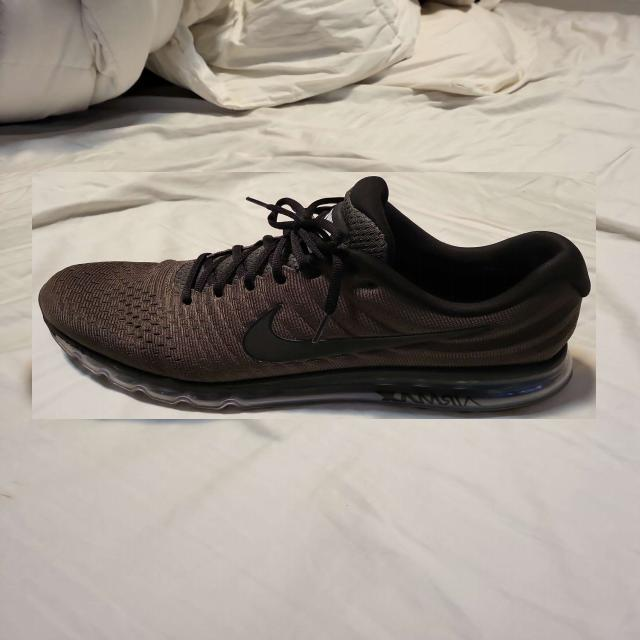shoe: (32, 172, 596, 419)
